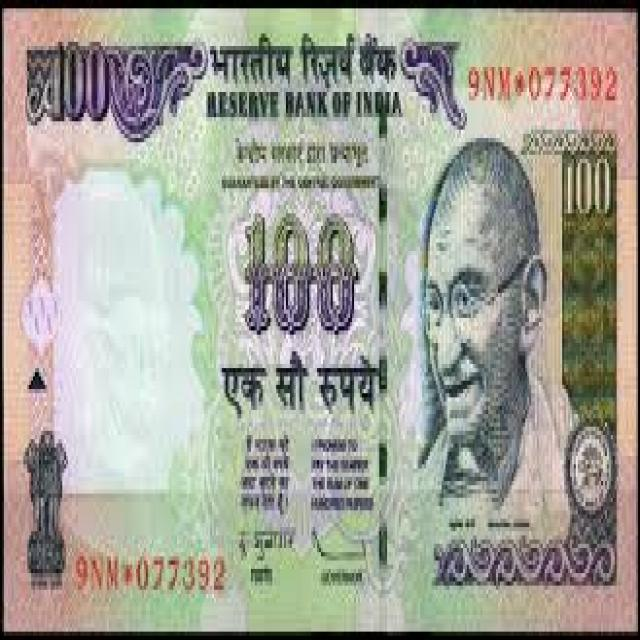100rs: (5, 14, 639, 626)
